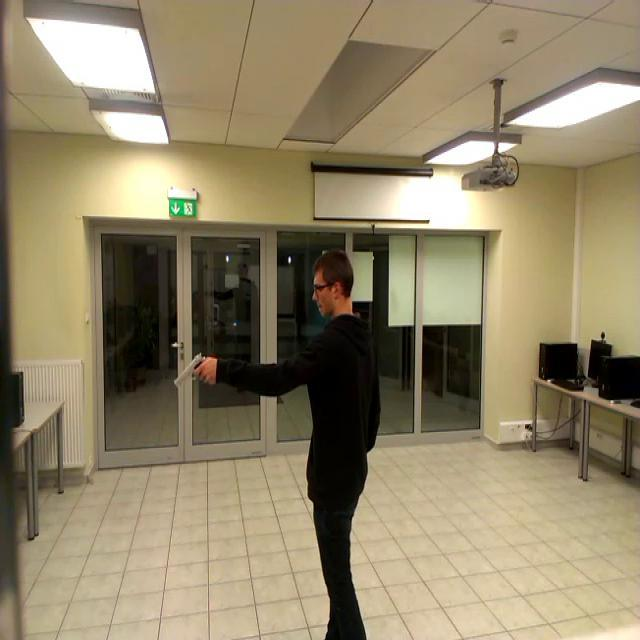Gun: (175, 351, 210, 386)
